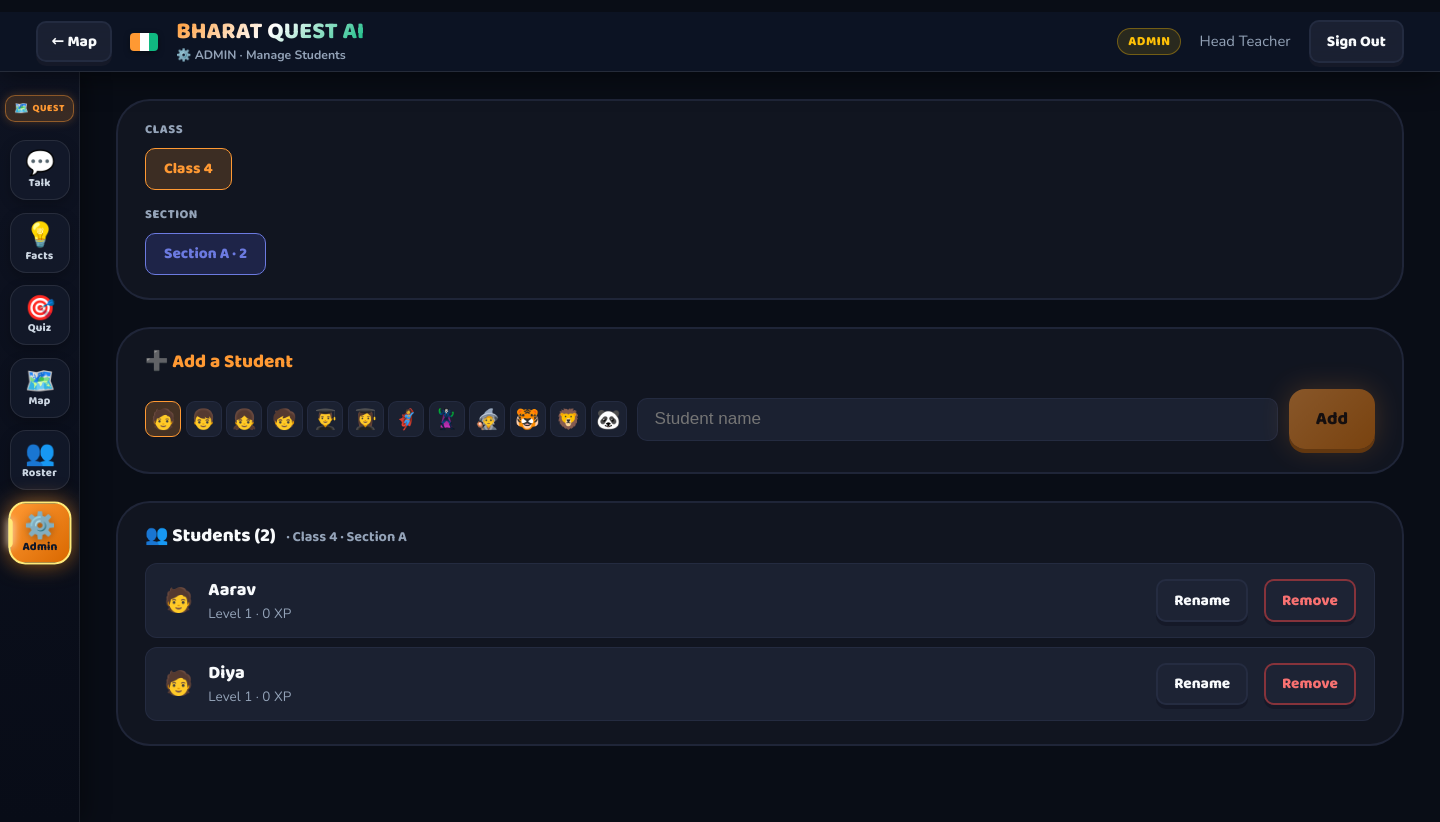
it: AdminPage — draft staging › stages a removal and allows undo
Expected: the text "Aarav" is shown, [208, 576, 256, 604]
// Aarav is the first row, so the first Remove button belongs to it.
Click the button "Remove" in the row of "Aarav".
click(1310, 600)  # box [1264, 579, 1356, 622]
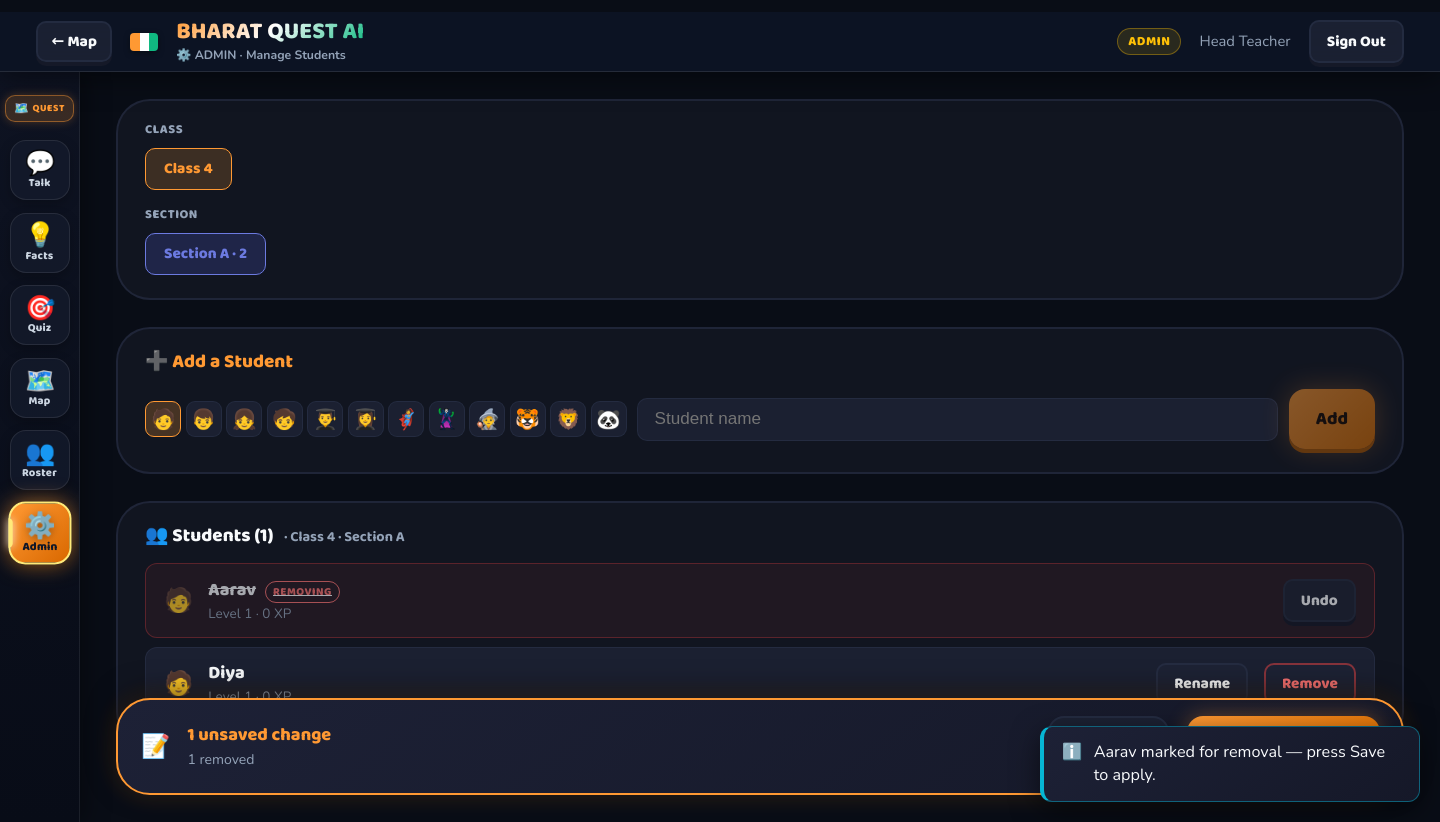
Result: the text "REMOVING" is shown at [265, 581, 340, 603]
Click the button "Undo".
click(1319, 600)  # box [1283, 579, 1356, 622]
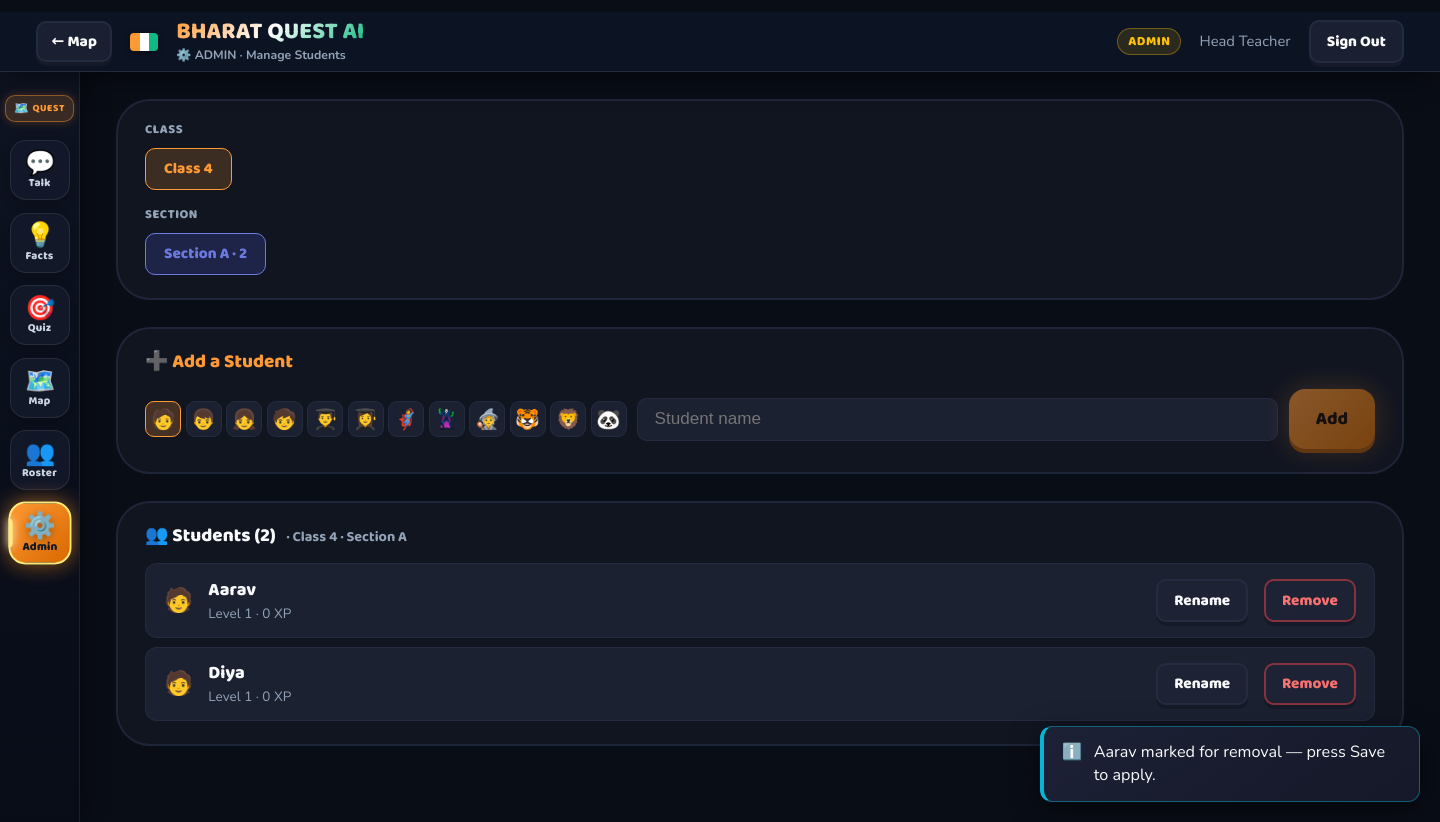
Result: the text "REMOVING" is gone
